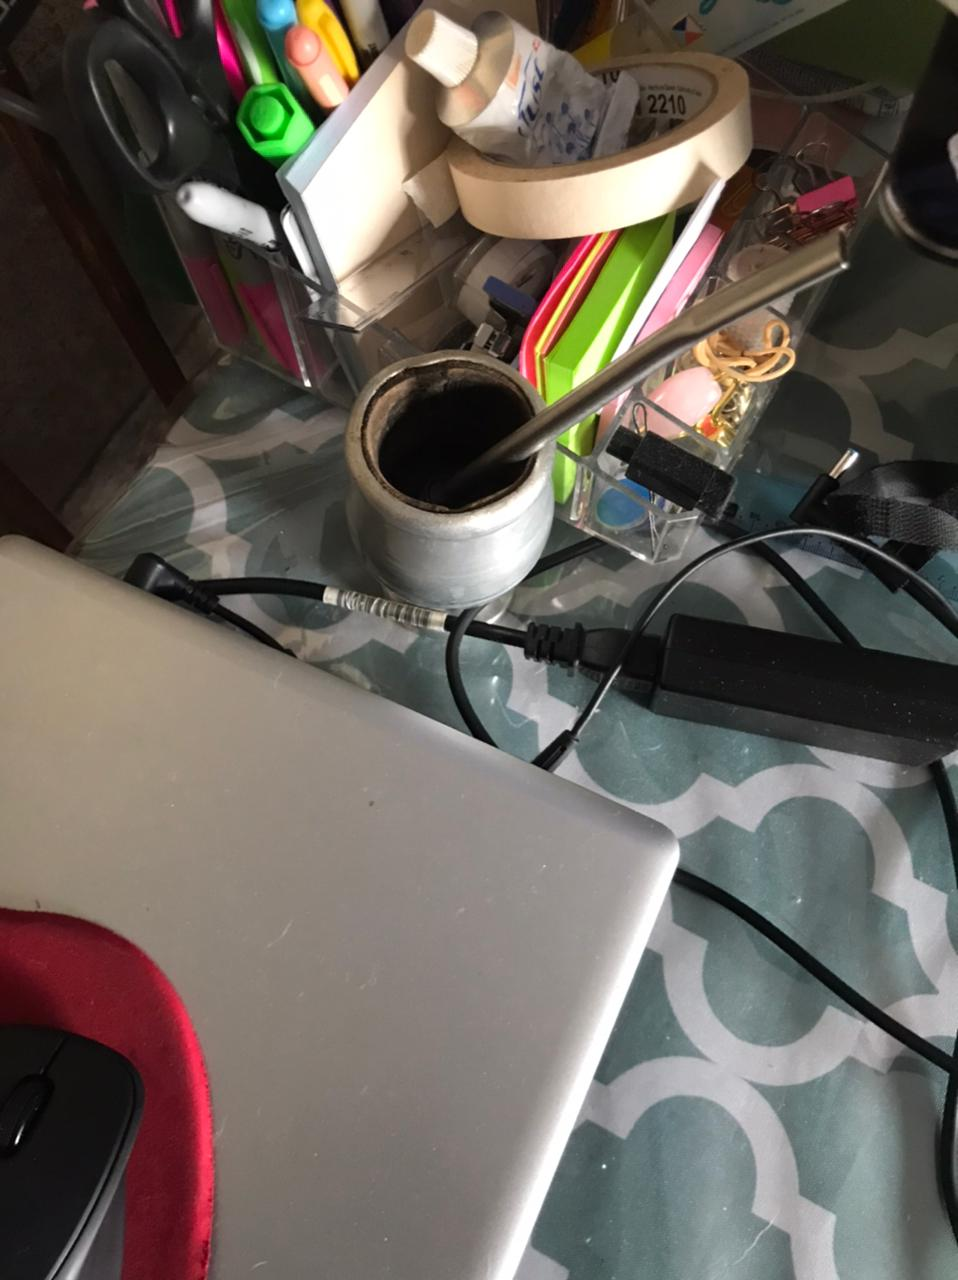mate: (340, 232, 858, 629)
